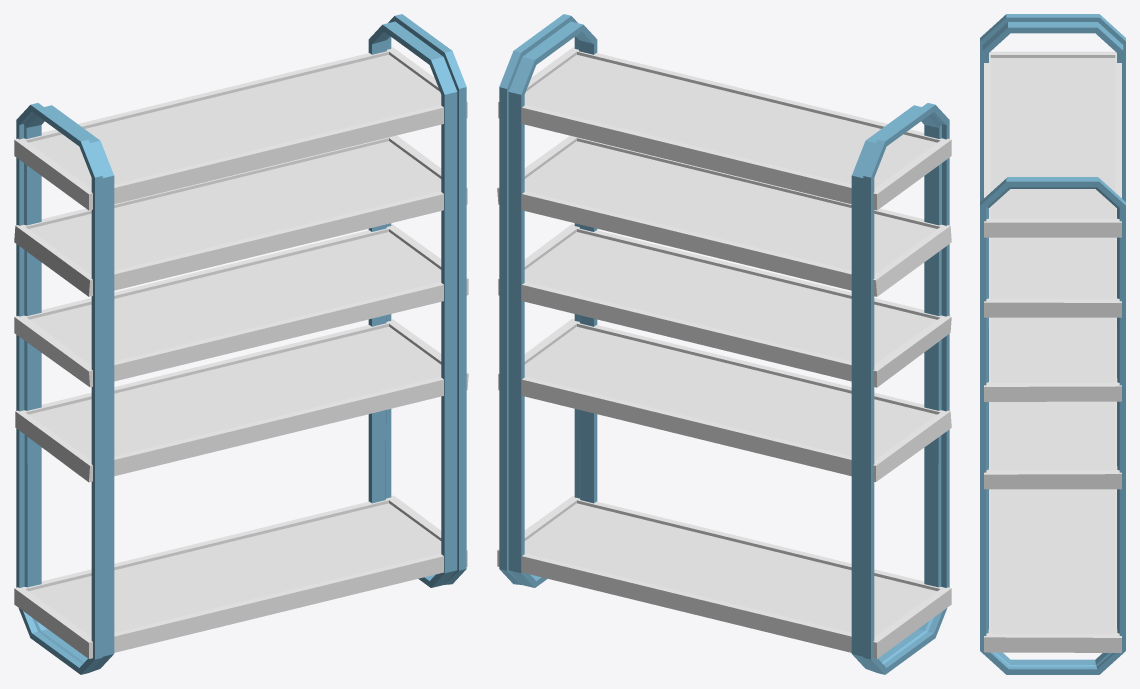
The model's file is Props_Shelf_Tall.002.fbx.
3 renders of one model, left to right at view 1: azimuth 30°, elevation 25°; view 2: azimuth 150°, elevation 25°; view 3: azimuth 270°, elevation 25°, orthographic. The views are drawn at different scales.
Parts seen in each view (by area): view 1: Props_Shelf_Tall.002; view 2: Props_Shelf_Tall.002; view 3: Props_Shelf_Tall.002.
Part boxes in pixels (bbox=[...]): Props_Shelf_Tall.002: bbox=[14, 14, 468, 674]; Props_Shelf_Tall.002: bbox=[497, 14, 951, 674]; Props_Shelf_Tall.002: bbox=[980, 14, 1125, 674].
Bounding box in the file's own units: 1.58 × 2.12 × 0.5676.
